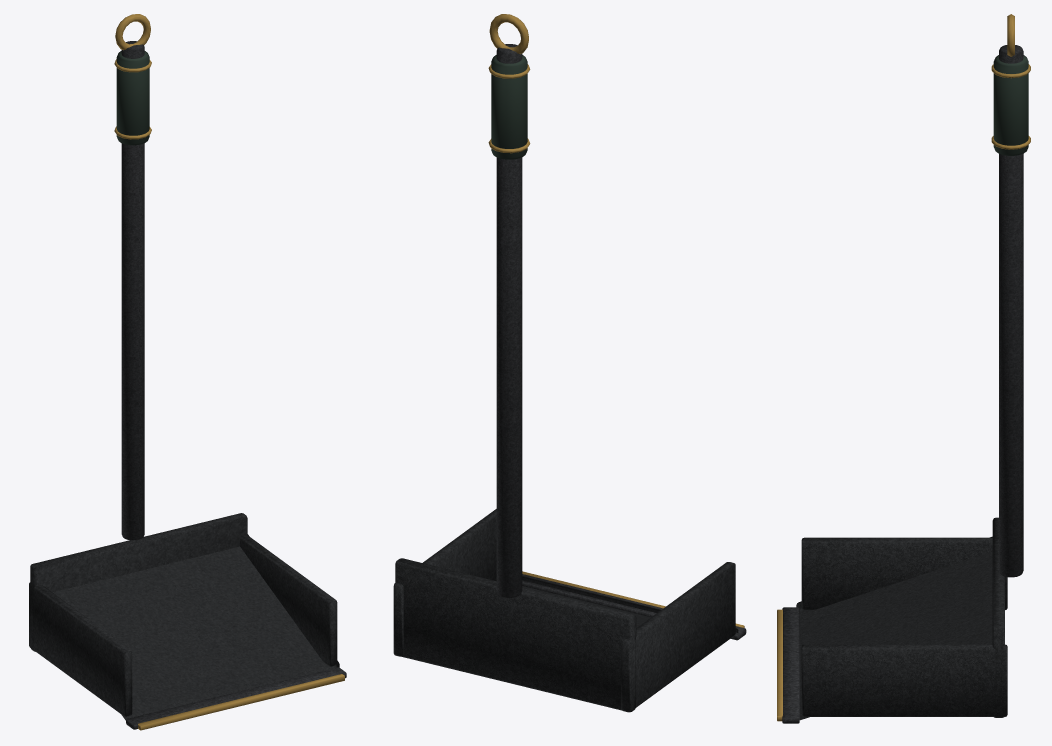
File: asset_075_dustpan.glb
3 views of the same model, side by side, from view 1: azimuth 30°, elevation 25°; view 2: azimuth 150°, elevation 25°; view 3: azimuth 270°, elevation 25° (orthographic). The views are drawn at different scales.
Parts seen in each view (by area): view 1: MESH_DustpanFloor, MESH_DustpanHandle, MESH_DustpanBack, MESH_DustpanWallL, MESH_DustpanWallR, MESH_DustpanHandleGrip, MESH_DustpanLip, MESH_DustpanLipStrip, MESH_DustpanHangLoop; view 2: MESH_DustpanBack, MESH_DustpanHandle, MESH_DustpanWallL, MESH_DustpanWallR, MESH_DustpanHandleGrip, MESH_DustpanLip, MESH_DustpanFloor, MESH_DustpanHangLoop; view 3: MESH_DustpanWallR, MESH_DustpanFloor, MESH_DustpanHandle, MESH_DustpanWallL, MESH_DustpanHandleGrip, MESH_DustpanLip, MESH_DustpanBack, MESH_DustpanLipStrip.
Boxes of the visible parts, box(x1,y1,x2,y2) form: MESH_DustpanFloor: box(52, 534, 339, 720); MESH_DustpanHandle: box(121, 41, 144, 540); MESH_DustpanBack: box(30, 513, 247, 651); MESH_DustpanWallL: box(29, 582, 132, 716); MESH_DustpanWallR: box(240, 535, 337, 666); MESH_DustpanHandleGrip: box(116, 51, 149, 145); MESH_DustpanLip: box(126, 667, 346, 729); MESH_DustpanLipStrip: box(138, 674, 344, 730); MESH_DustpanHangLoop: box(115, 14, 150, 50); MESH_DustpanBack: box(395, 558, 636, 712); MESH_DustpanHandle: box(496, 44, 522, 597); MESH_DustpanWallL: box(621, 562, 735, 712); MESH_DustpanWallR: box(393, 509, 496, 656); MESH_DustpanHandleGrip: box(491, 55, 527, 159); MESH_DustpanLip: box(522, 574, 746, 640); MESH_DustpanFloor: box(522, 576, 738, 638); MESH_DustpanHangLoop: box(489, 14, 528, 54); MESH_DustpanWallR: box(801, 644, 1007, 716); MESH_DustpanFloor: box(796, 536, 992, 720); MESH_DustpanHandle: box(999, 45, 1023, 577); MESH_DustpanWallL: box(801, 537, 1007, 610); MESH_DustpanHandleGrip: box(993, 55, 1028, 155); MESH_DustpanLip: box(782, 607, 799, 723); MESH_DustpanBack: box(992, 517, 1004, 717); MESH_DustpanLipStrip: box(777, 609, 782, 721).
Bounding box in the file's own units: 0.32 × 0.826 × 0.2975.
5 materials, 4 textured.
